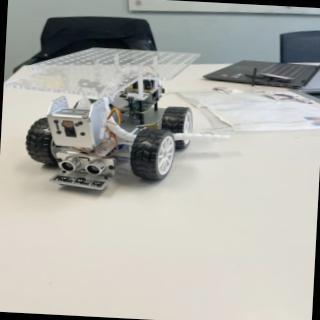vehicle: (6, 43, 208, 204)
